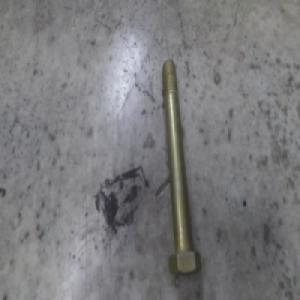Bolt: (161, 53, 201, 272)
